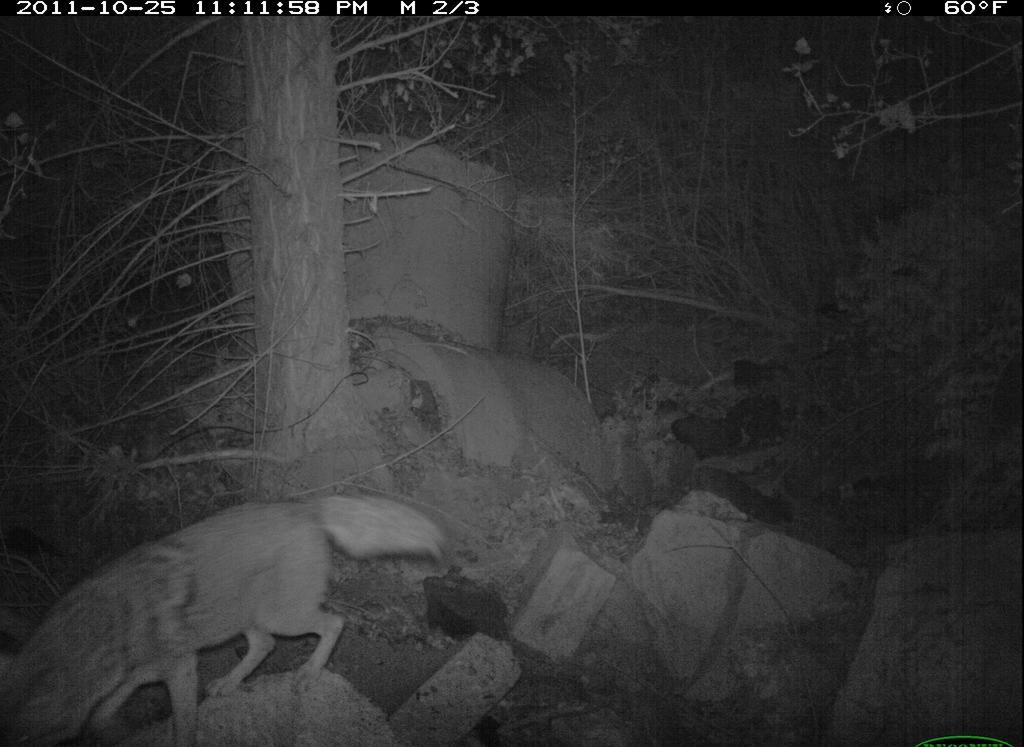coyote: (6, 486, 452, 745)
